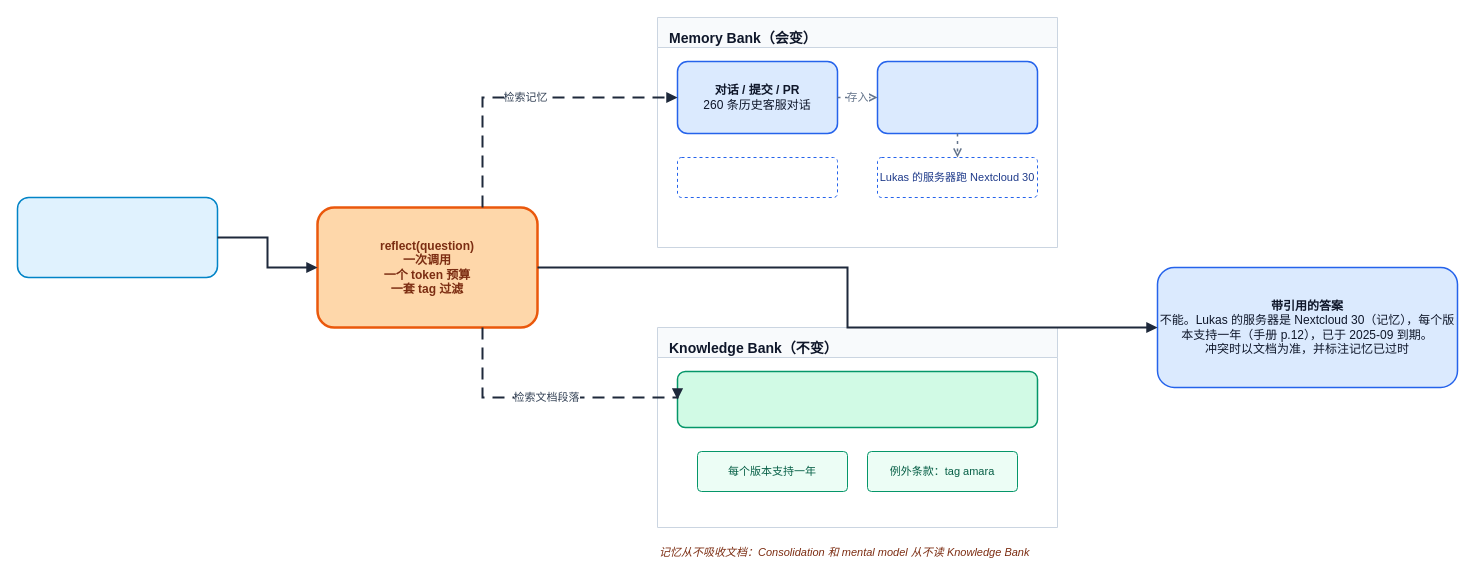
Some shapes in this 1476 by 585 pixel diagram are drawn without their labels. Each missing label, with the centre of its shape:
Agent / 用户提问 "我的服务器还能收到更新吗？": the point at 117,237
Amara 有特批例外（tag: amara）: the point at 757,177
Retain → LLM 抽取 Consolidation 合并、修正: the point at 957,97
手册 / 规范 / PDF Nextcloud 手册 837 页 · 原样保留 · 零 LLM: the point at 857,399
